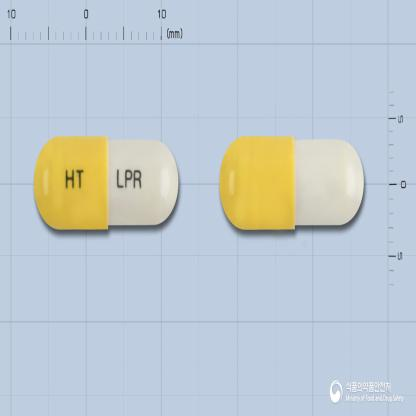pill: (32, 132, 181, 231), (218, 132, 365, 231)
